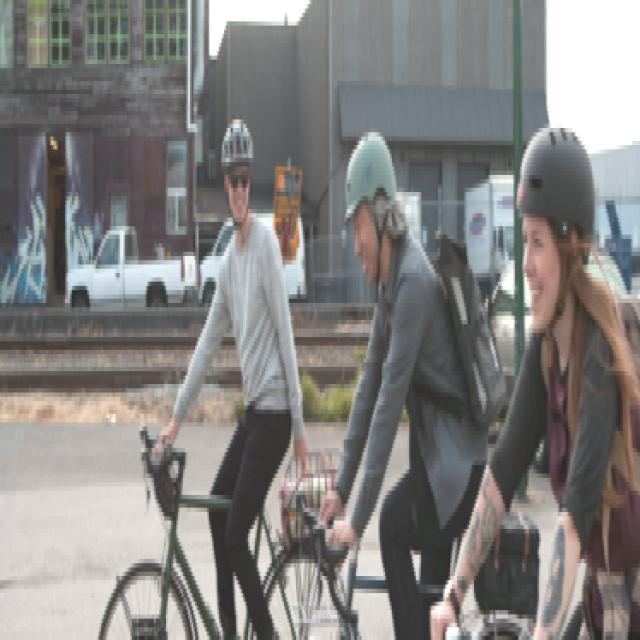Helmet: (516, 115, 600, 337), (346, 111, 398, 290), (222, 106, 256, 235)
